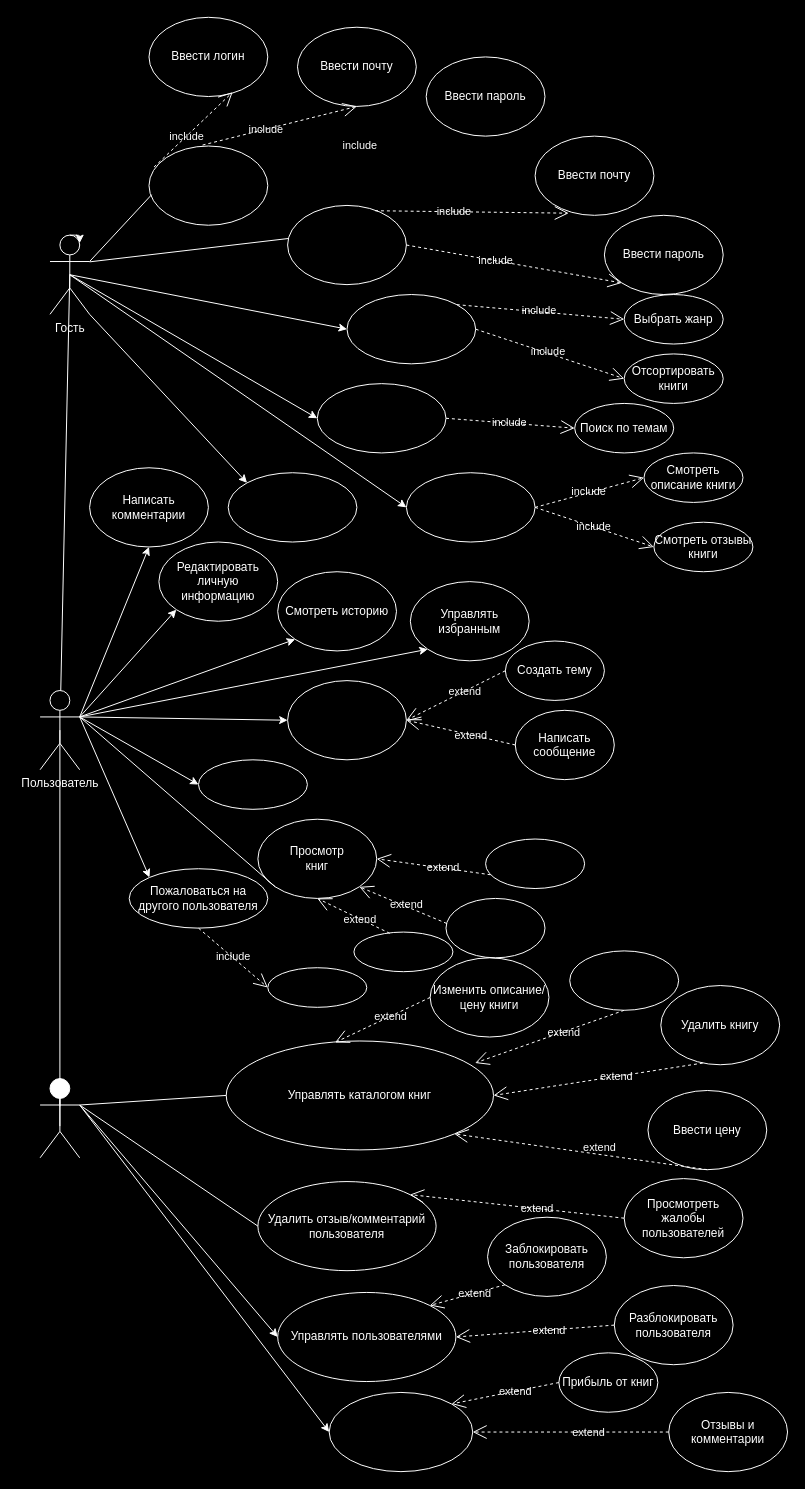
Some shapes in this 805 by 1489 pixel diagram are drawn without their labels. Here are the shapes that lost their labels. From the top down, the centre of each, then its label:
the point at 208,185: Зарегистрироваться
the point at 346,244: Войти в аккаунт
the point at 411,329: Просмотреть каталог
the point at 381,418: Читать форум
the point at 292,507: Посмотреть чужой профиль
the point at 470,507: Посмотреть информацию о книги
the point at 346,720: Писать на форуме
the point at 252,784: Написать отзыв
the point at 535,863: Сортировать по жанрам
the point at 495,927: Применить фильтры
the point at 403,951: Купить книгу
the point at 317,987: Введите текст жалобы
the point at 624,980: Добавить книгу
the point at 59,1118: Администратор
the point at 400,1431: Смотреть общую статистику
